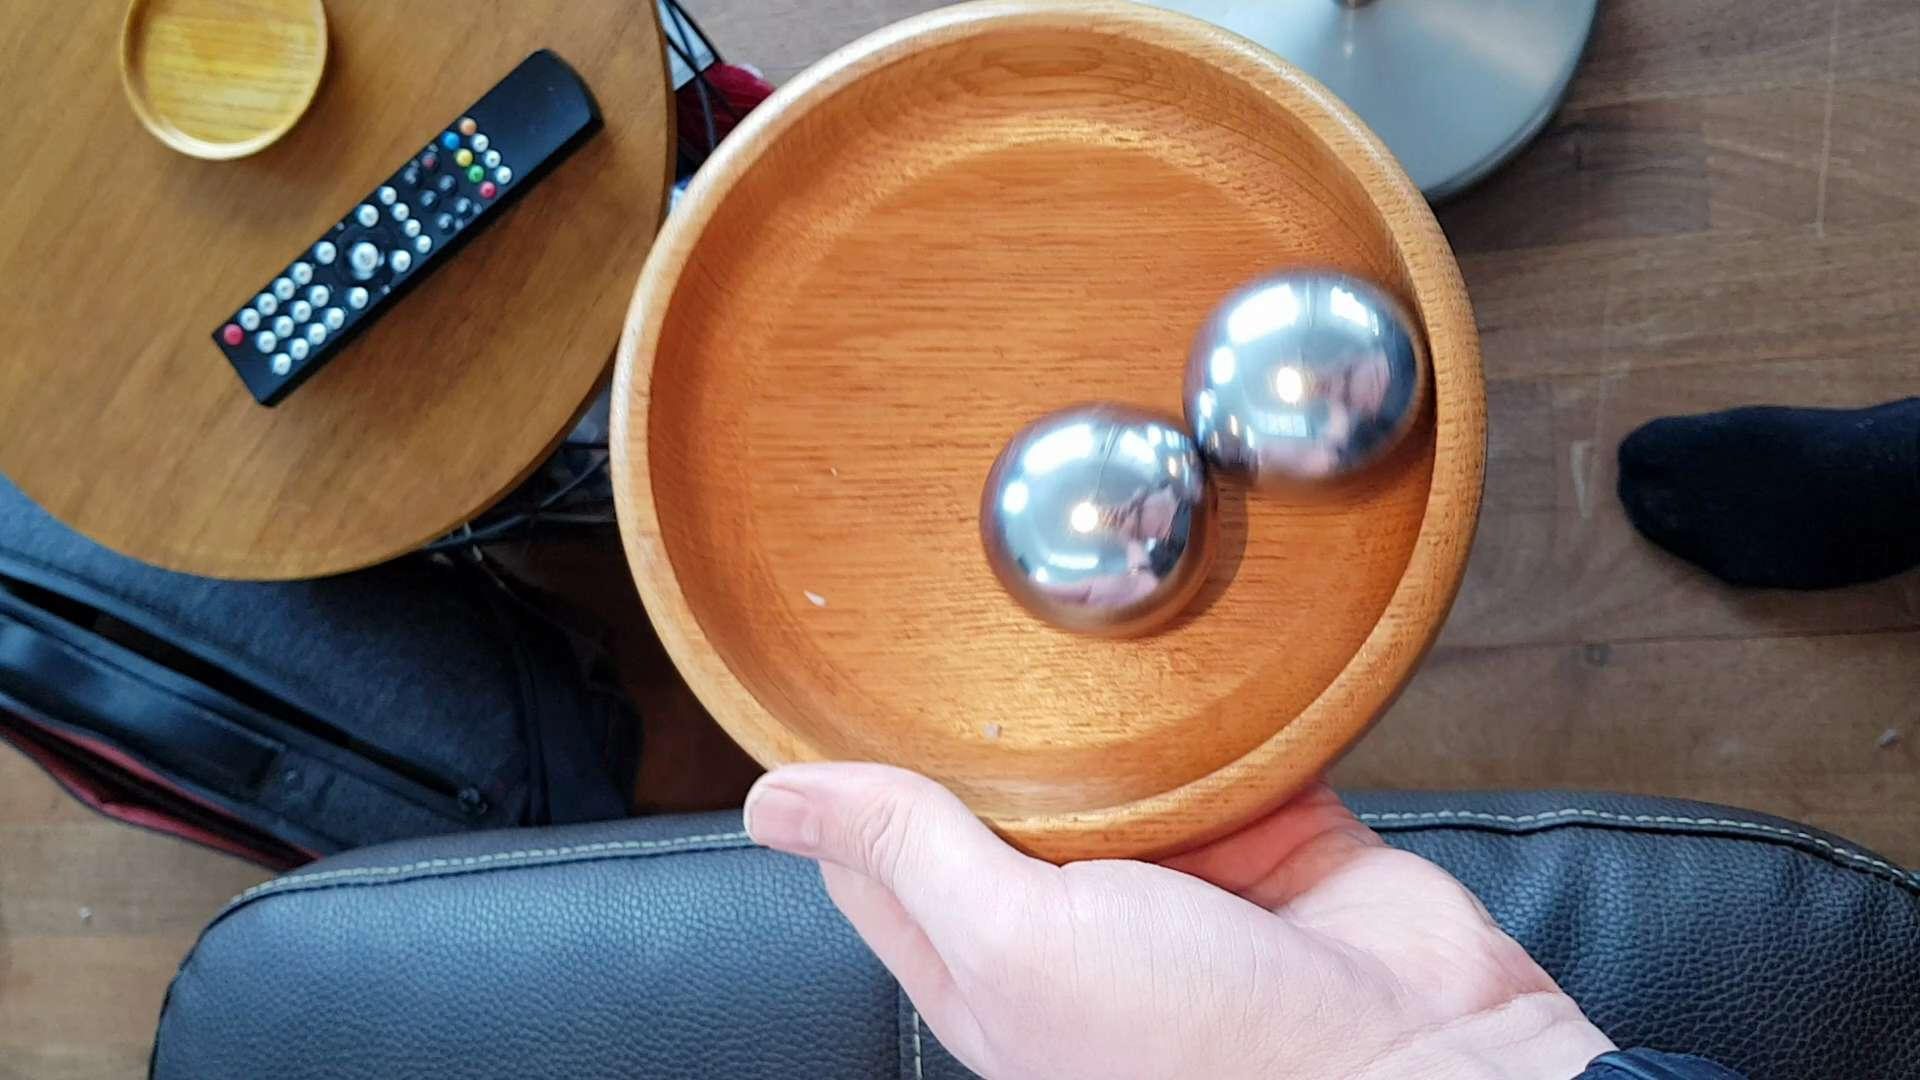sphere: (978, 389, 1233, 644), (1178, 265, 1431, 516)
